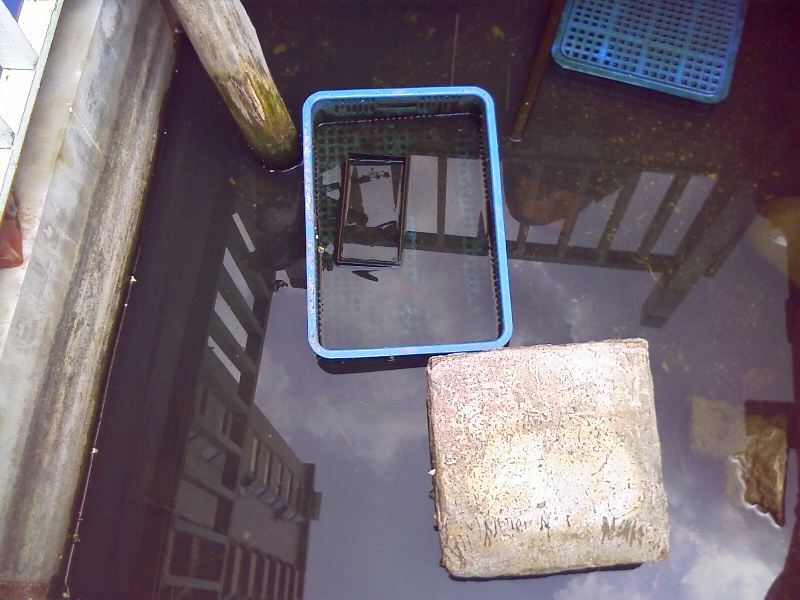box: (333, 149, 412, 269)
styrofoam: (425, 337, 672, 578)
